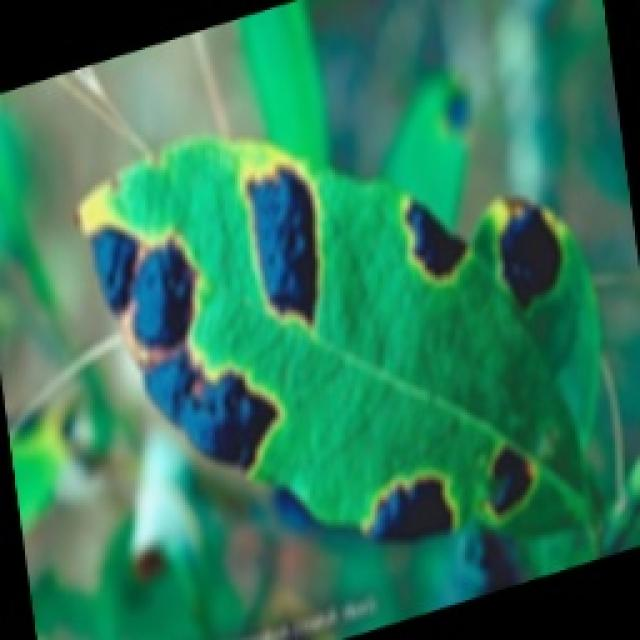Tar_Spot: (0, 0, 638, 638), (70, 156, 576, 522)
